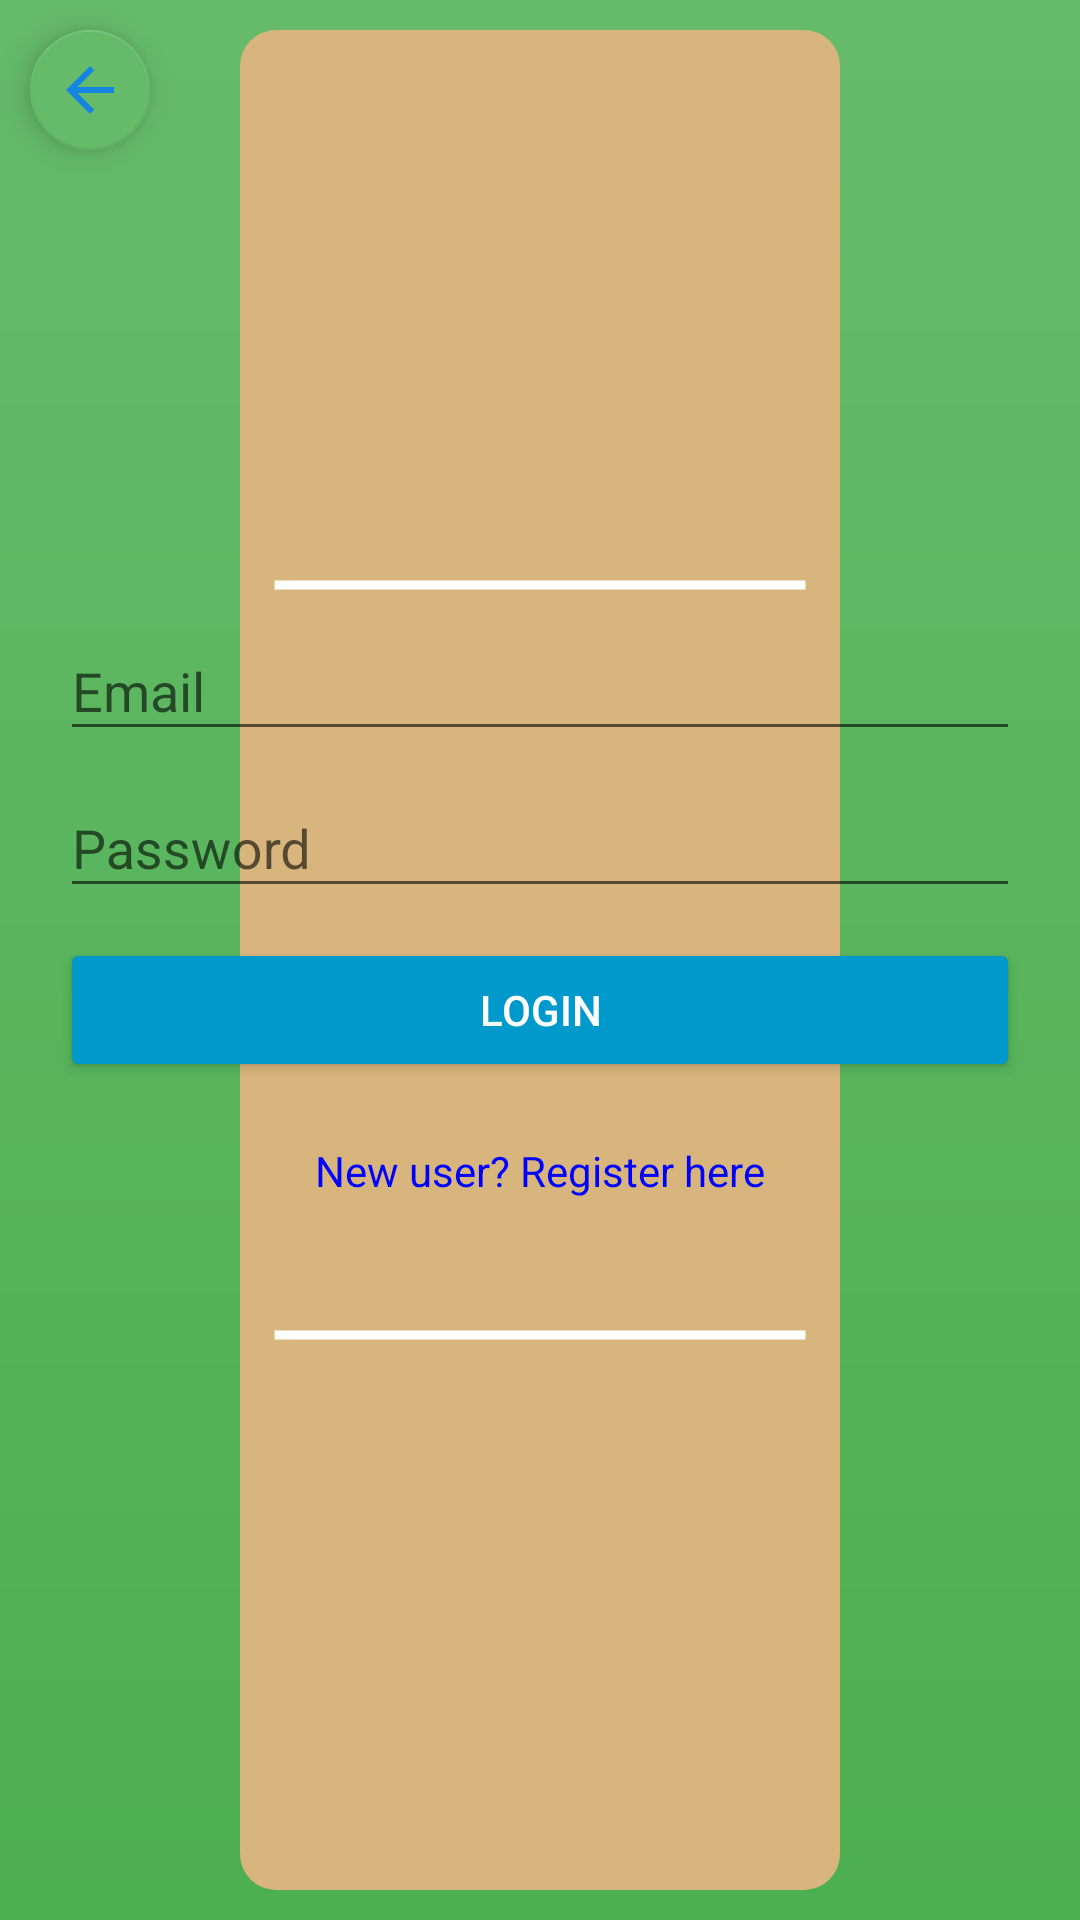

Screen size 1080 × 1920. Icon name, then its center in pixels as (x,y):
back: (90,72)
